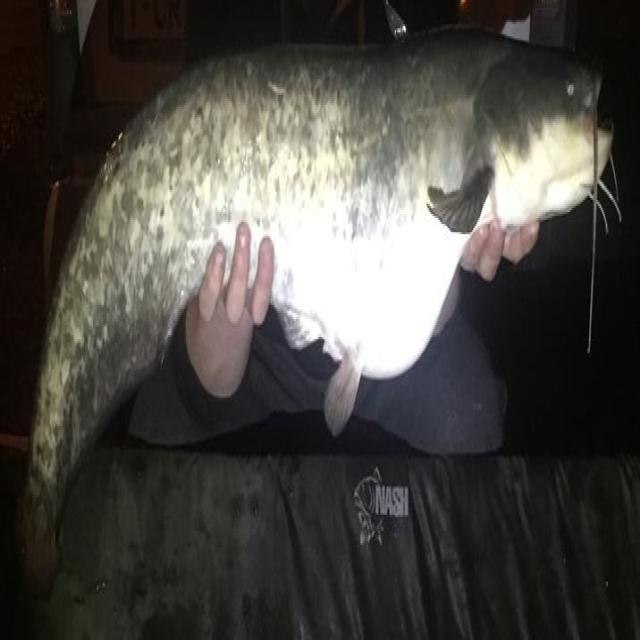Catfish: (7, 20, 627, 610)
